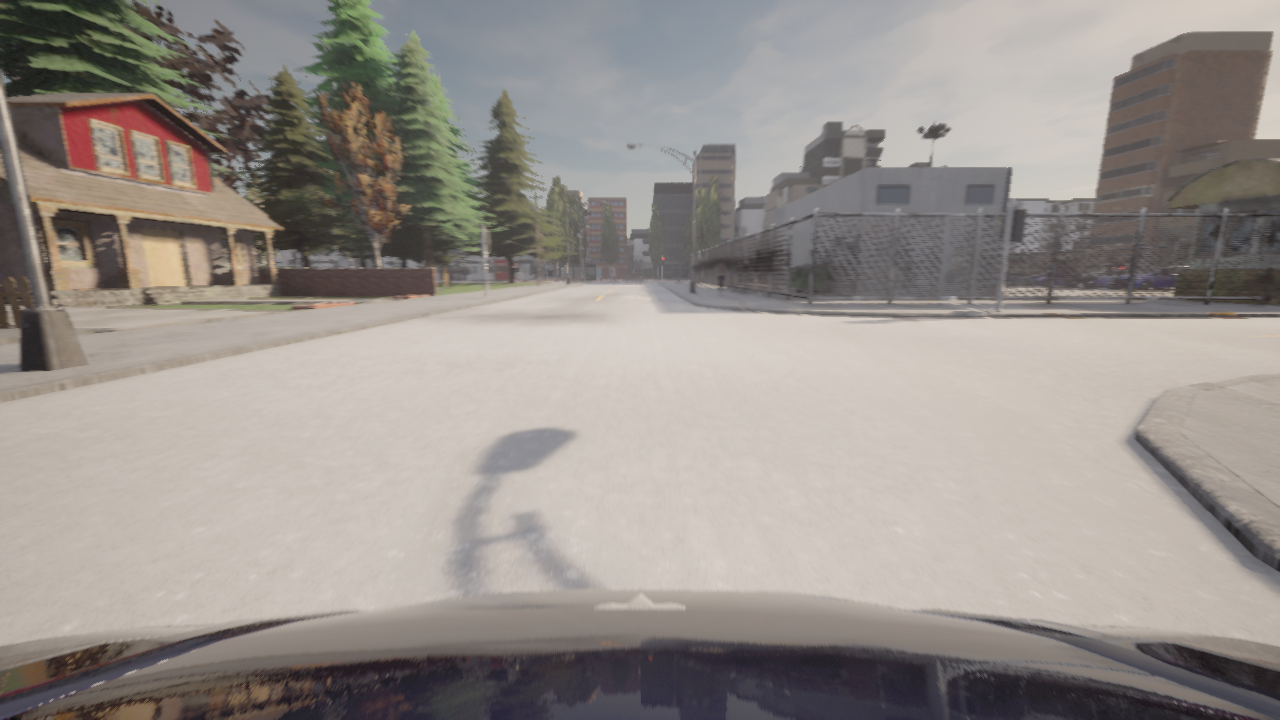cyclist: (0, 588, 1279, 719), (1109, 265, 1187, 290), (1063, 263, 1127, 288), (1028, 269, 1079, 286), (1090, 269, 1127, 288), (1004, 269, 1028, 285), (1013, 271, 1033, 284), (1173, 281, 1175, 286)
pedestrian: (715, 258, 726, 295)
